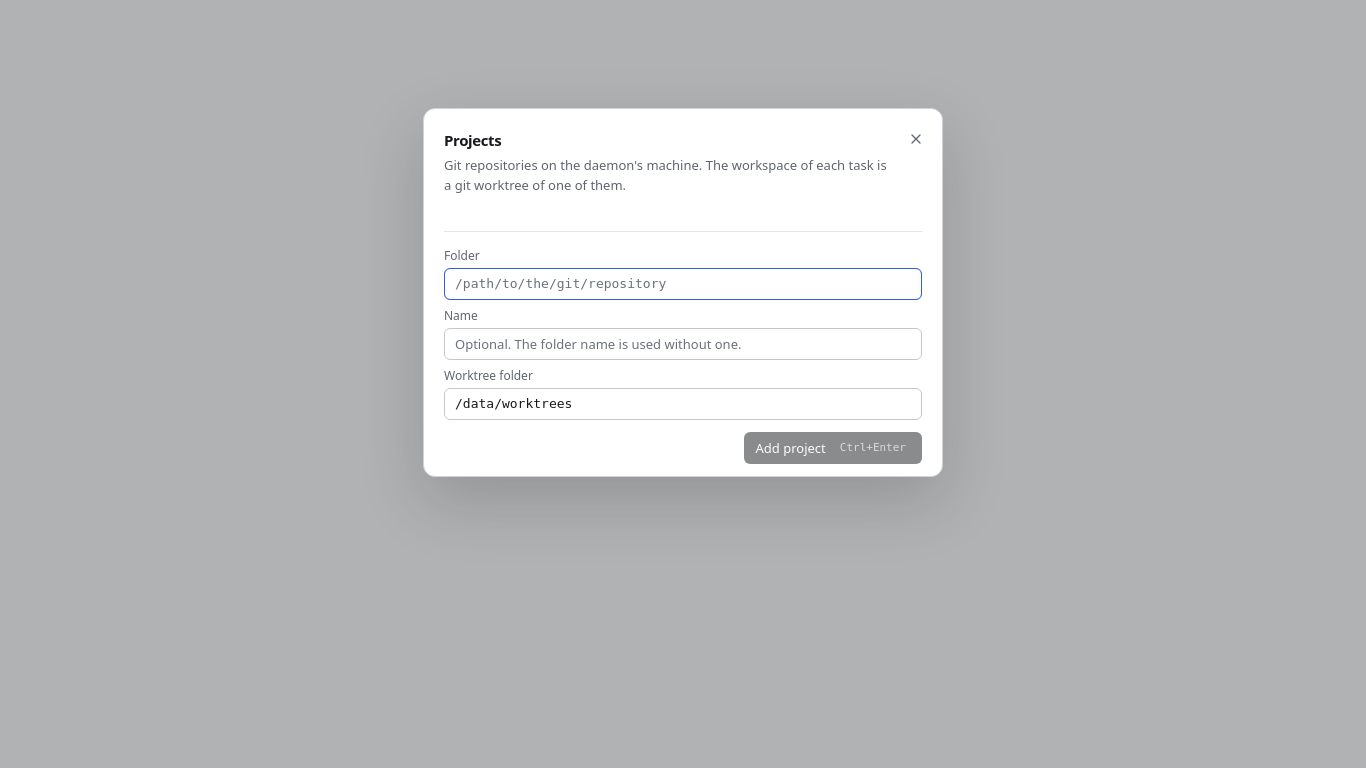
Test: RepoPanel worktree folder › shows a worktree folder error from the daemon under its field
Type "/work/web" into the field named "Project folder" at point(683, 284), box left=444, top=268, right=922, bottom=300
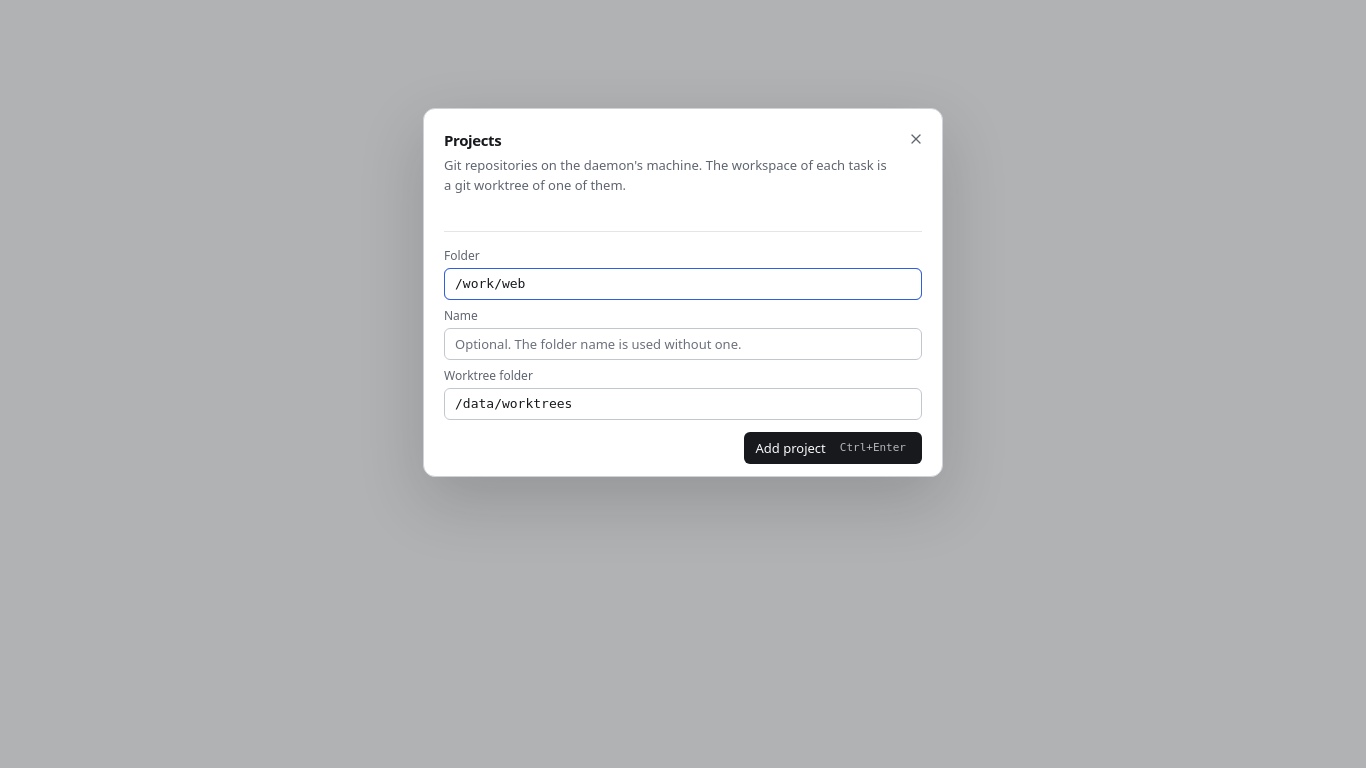
Replace the text in the field named "worktree folder" with "/a-file/trees" at point(683, 404), box left=444, top=388, right=922, bottom=420
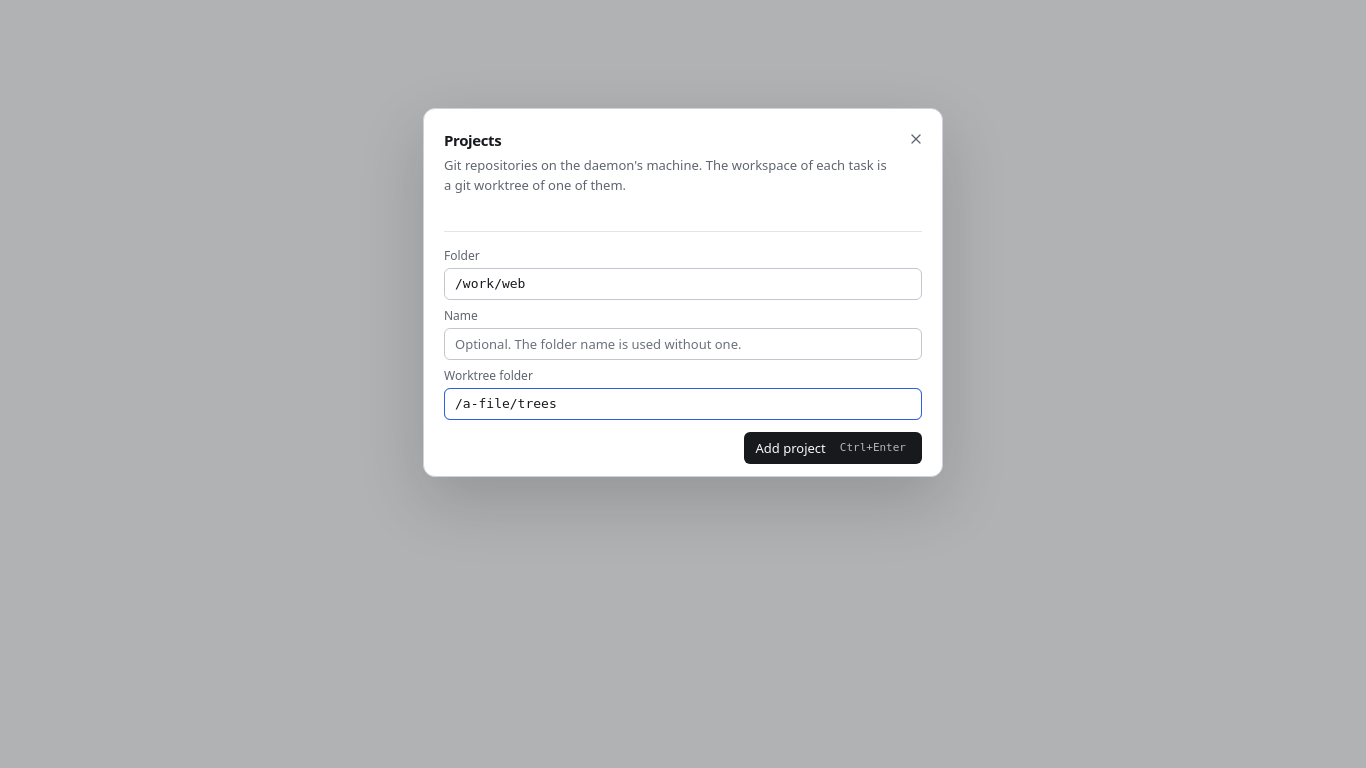
Click the button "Add project Ctrl+Enter" at point(833, 448), box left=744, top=432, right=922, bottom=464
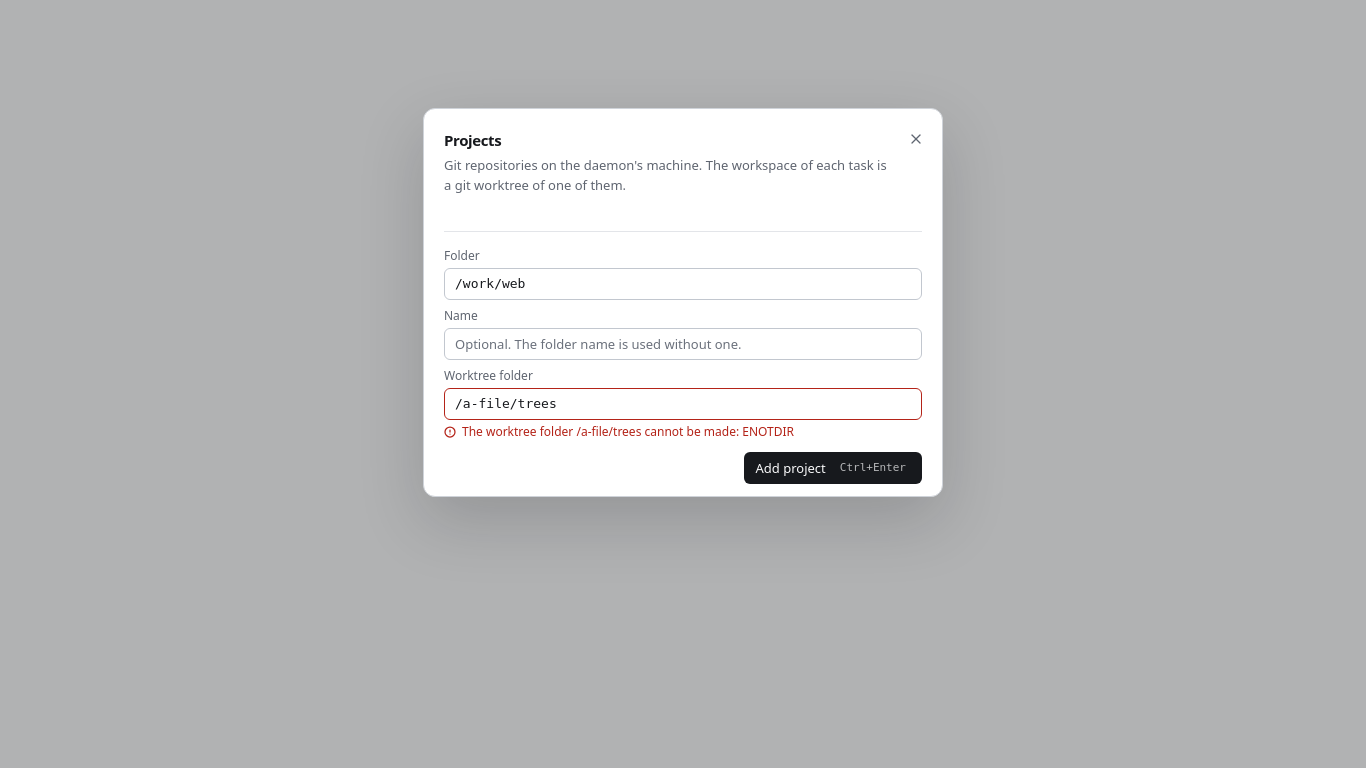
Expected: the message shows "cannot be made", left=462, top=422, right=794, bottom=440
